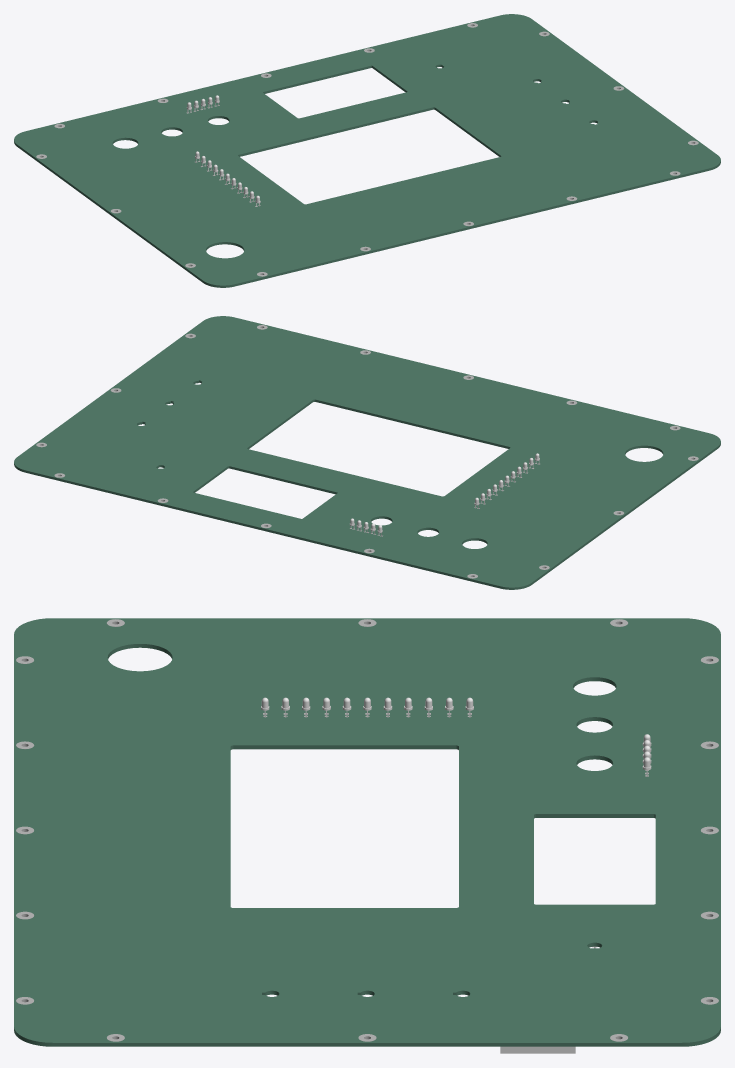
File: pcb-c-display.glb
3 views of the same model, one above another, from view 1: azimuth 30°, elevation 25°; view 2: azimuth 150°, elevation 25°; view 3: azimuth 270°, elevation 25° (orthographic). The views are drawn at different scales.
Parts seen in each view (by area): view 1: =>[0:1:1:14], =>[0:1:1:13]; view 2: =>[0:1:1:14], =>[0:1:1:13]; view 3: =>[0:1:1:14], =>[0:1:1:13].
Part boxes in pixels (bbox=[...]): =>[0:1:1:14]: bbox=[14, 14, 720, 287]; =>[0:1:1:13]: bbox=[36, 23, 698, 276]; =>[0:1:1:14]: bbox=[14, 316, 720, 589]; =>[0:1:1:13]: bbox=[36, 325, 698, 578]; =>[0:1:1:14]: bbox=[14, 618, 720, 1046]; =>[0:1:1:13]: bbox=[16, 619, 718, 1041].
Bounding box in the file's own units: 0.442 × 0.02 × 0.311.
